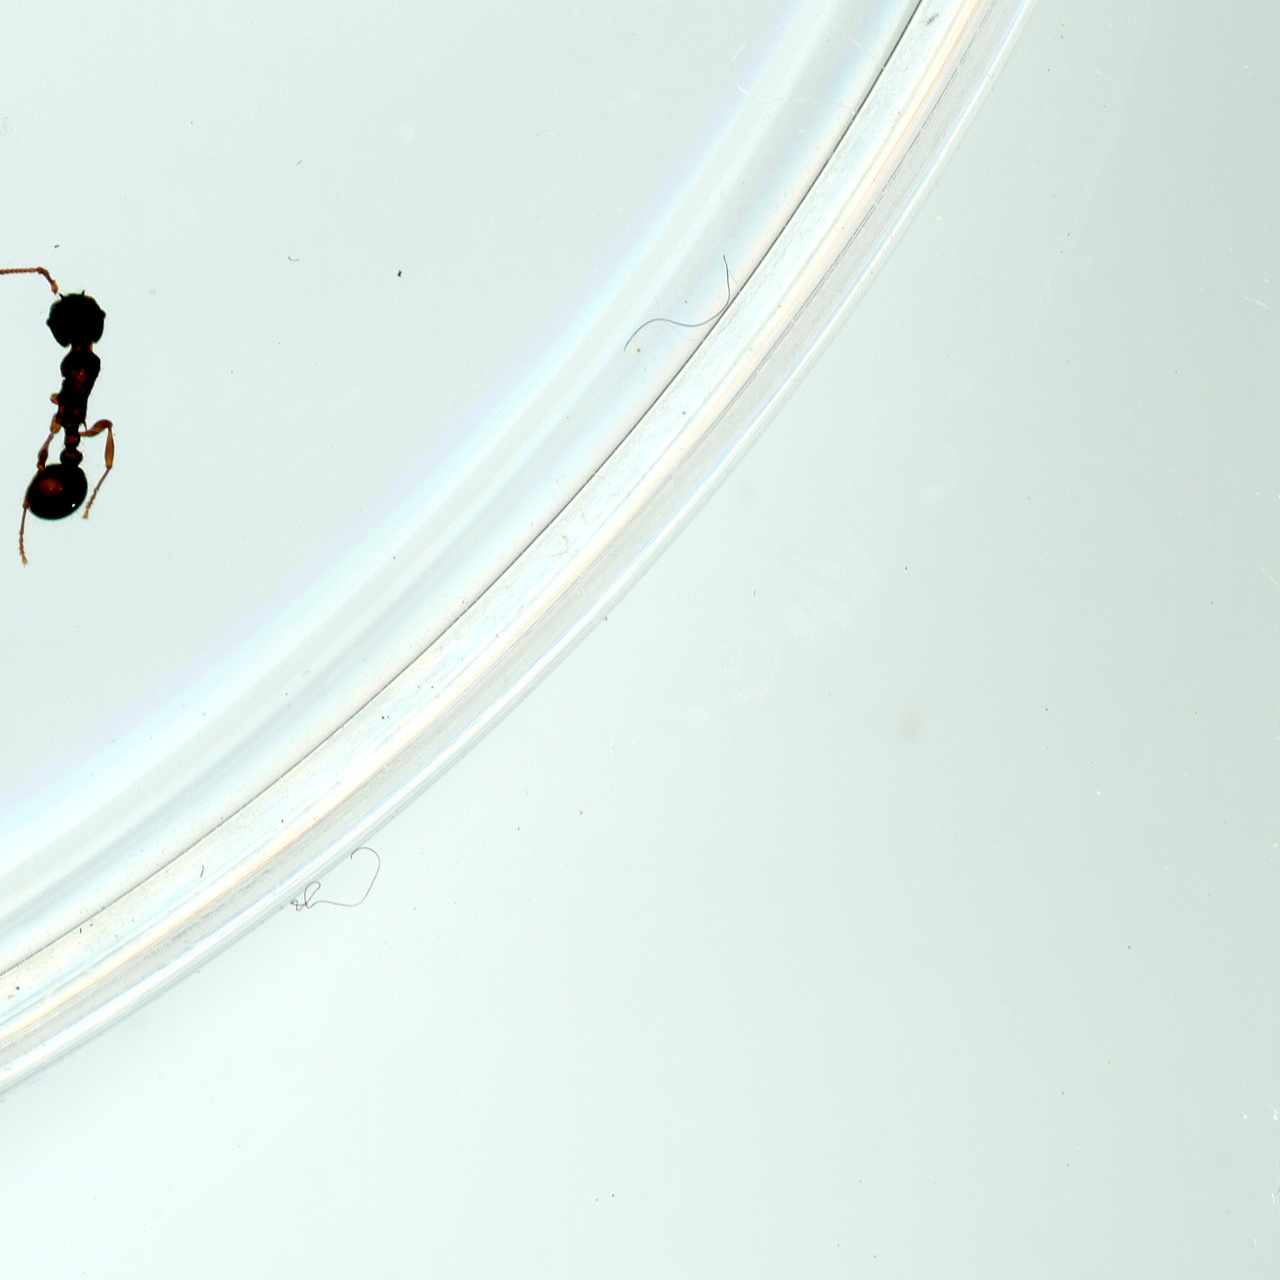arthropod: (0, 240, 130, 571)
